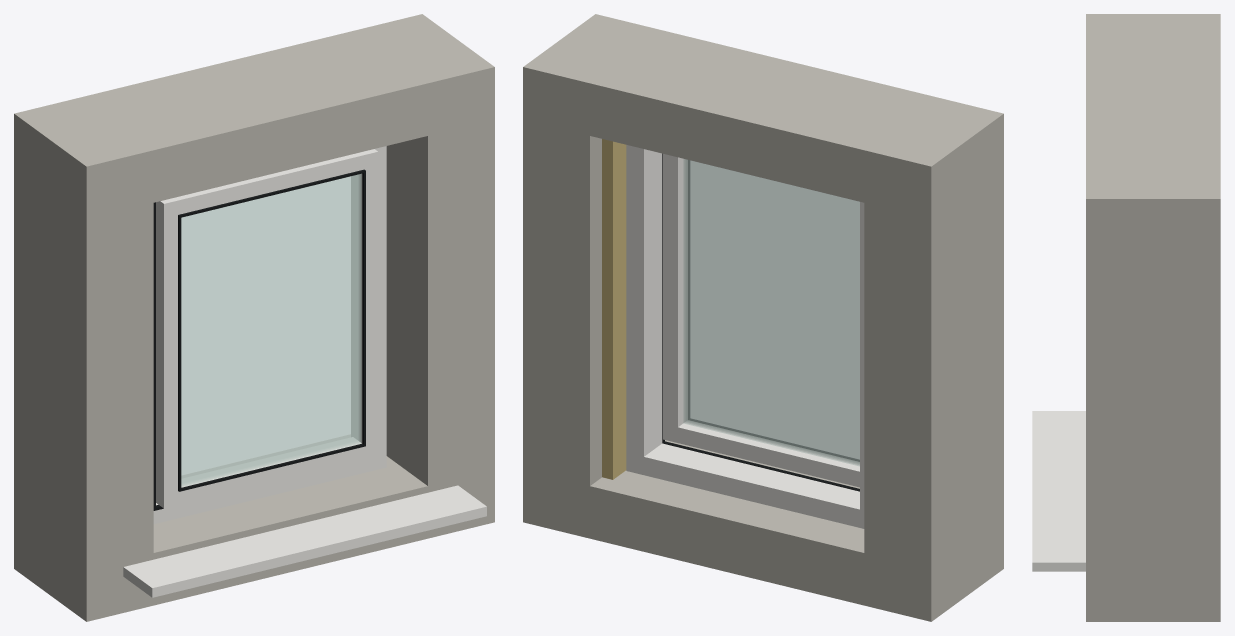
File: profile.glb
3 renders of one model, left to right at view 1: azimuth 30°, elevation 25°; view 2: azimuth 150°, elevation 25°; view 3: azimuth 270°, elevation 25°, orthographic. The views are drawn at different scales.
Visible parts, largest first — view 1: Стена, Стекло, Белый ПВХ, Уплотнитель; view 2: Стена, Стекло, Белый ПВХ, Монтажный шов, Уплотнитель; view 3: Стена, Белый ПВХ.
Boxes of the visible parts, bbox=[...] form: Стена: bbox=[14, 14, 494, 621]; Стекло: bbox=[181, 174, 361, 486]; Белый ПВХ: bbox=[123, 146, 486, 597]; Уплотнитель: bbox=[153, 169, 365, 510]; Стена: bbox=[523, 14, 1003, 621]; Стекло: bbox=[683, 159, 859, 466]; Белый ПВХ: bbox=[626, 145, 864, 528]; Монтажный шов: bbox=[602, 139, 626, 479]; Уплотнитель: bbox=[662, 153, 859, 491]; Стена: bbox=[1086, 14, 1220, 621]; Белый ПВХ: bbox=[1032, 411, 1085, 571].
Size of the model in its own units: 2.44 by 2.6 by 1.05.
